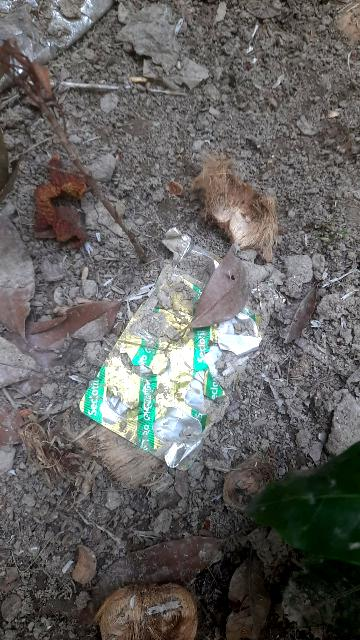medicine: (84, 226, 303, 479)
